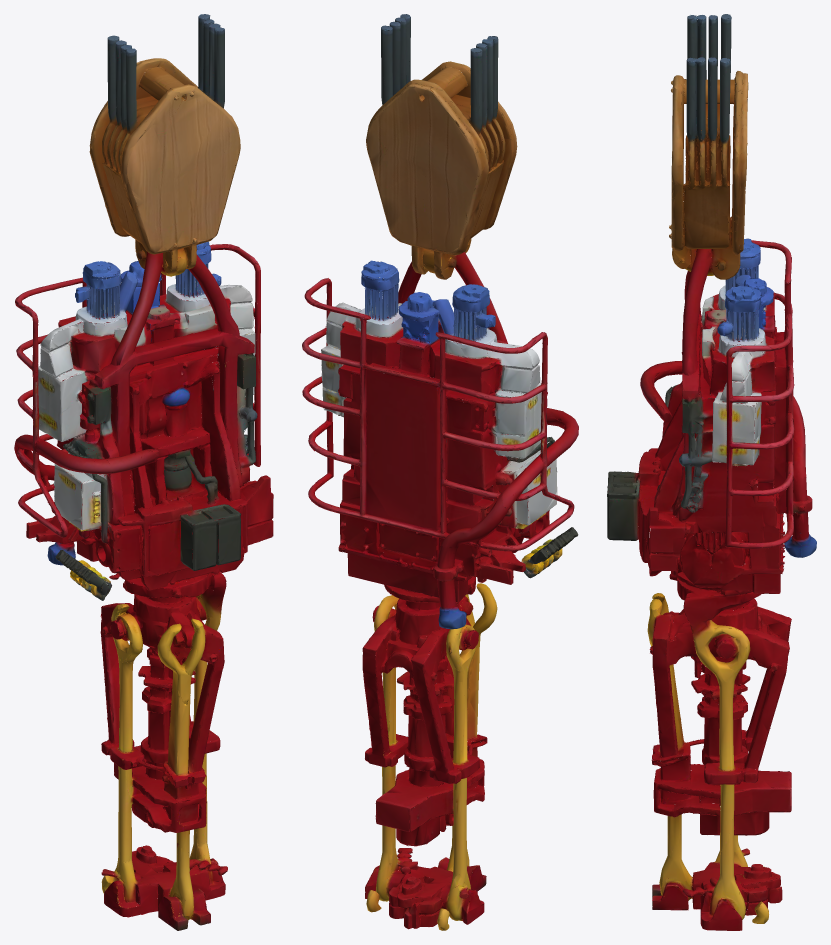
File: topdrive.glb
3 views of the same model, side by side, from view 1: azimuth 30°, elevation 25°; view 2: azimuth 150°, elevation 25°; view 3: azimuth 270°, elevation 25° (orthographic).
Visible parts, largest first — view 1: model; view 2: model; view 3: model.
Boxes of the visible parts, <box> form: model: <box>14,14,273,930</box>; model: <box>302,14,578,930</box>; model: <box>607,14,816,930</box>.
Size of the model in its own units: 0.5206 by 1.9 by 0.4175.
Materials: 1 (1 with a texture image).
